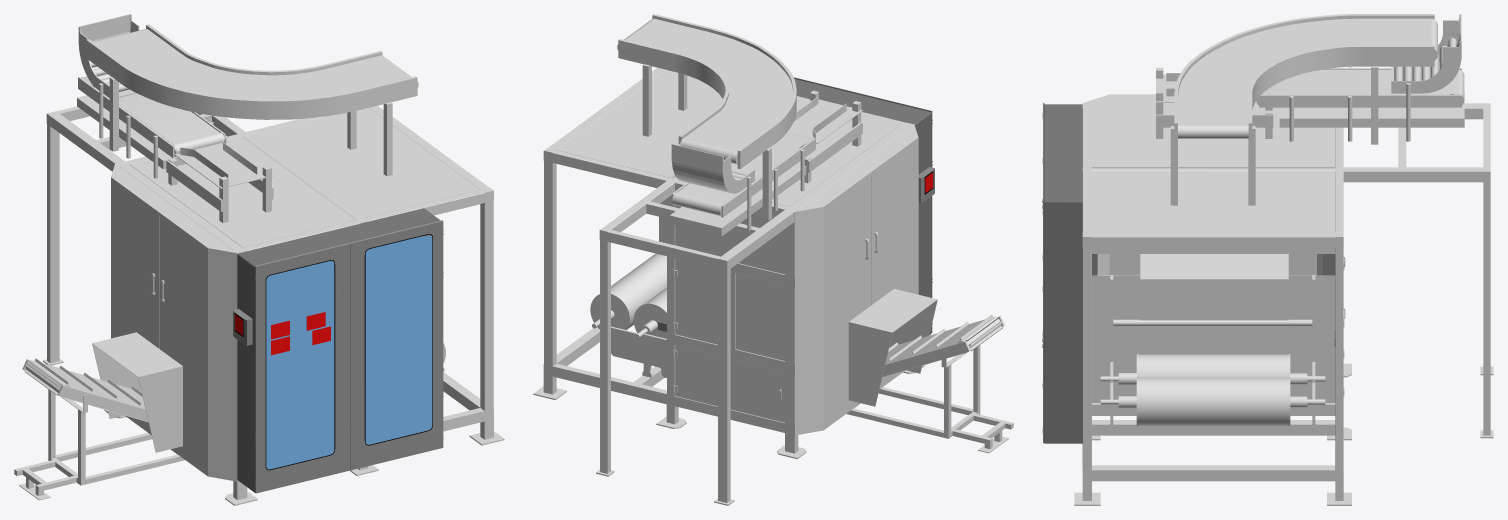
The model's file is Raumak.FBX.
3 views of the same model, side by side, from view 1: azimuth 30°, elevation 25°; view 2: azimuth 150°, elevation 25°; view 3: azimuth 270°, elevation 25° (orthographic). The views are drawn at different scales.
Parts seen in each view (by area): view 1: Line007, Box085, Box001, Box007, Box009, Box106, Group061, Box105, Line008, Box004, Box086, Box087 (+13 smaller); view 2: Box085, Line007, Group061, Box106, Box086, Box091, Line008, Box004, Box090, Box087, Box099, Box089 (+17 smaller); view 3: Box085, Box106, Line003, Box004, Group058, Group061, Box100, Box105, Line008, Box103, Line009, Box102 (+13 smaller).
Boxes of the visible parts, <box> form: Line007: <box>111,180,233,477</box>; Box085: <box>43,105,504,505</box>; Box001: <box>255,220,443,493</box>; Box007: <box>365,236,432,444</box>; Box009: <box>266,260,334,469</box>; Box106: <box>250,108,479,217</box>; Group061: <box>94,29,409,99</box>; Box105: <box>129,137,354,247</box>; Line008: <box>86,24,417,119</box>; Box004: <box>237,208,440,492</box>; Box086: <box>92,332,182,452</box>; Box087: <box>14,389,185,500</box>; Box085: <box>533,67,924,505</box>; Line007: <box>798,140,918,431</box>; Group061: <box>626,19,793,151</box>; Box106: <box>557,70,722,177</box>; Box086: <box>848,289,937,406</box>; Box091: <box>675,345,784,422</box>; Line008: <box>618,14,796,169</box>; Box004: <box>794,79,931,334</box>; Box090: <box>735,273,784,360</box>; Box087: <box>846,345,1013,453</box>; Box099: <box>794,124,918,435</box>; Box089: <box>675,258,730,347</box>; Box085: <box>1074,103,1493,505</box>; Box106: <box>1092,171,1335,232</box>; Line003: <box>1140,254,1288,354</box>; Box004: <box>1044,104,1082,443</box>; Group058: <box>1138,354,1288,426</box>; Group061: <box>1178,18,1430,125</box>; Box100: <box>1092,275,1335,402</box>; Box105: <box>1092,108,1335,167</box>; Line008: <box>1174,14,1434,143</box>; Box103: <box>1279,91,1464,127</box>; Line009: <box>1256,69,1464,101</box>; Box102: <box>1259,94,1461,107</box>.
Size of the model in its own units: 139 by 109 by 123.
